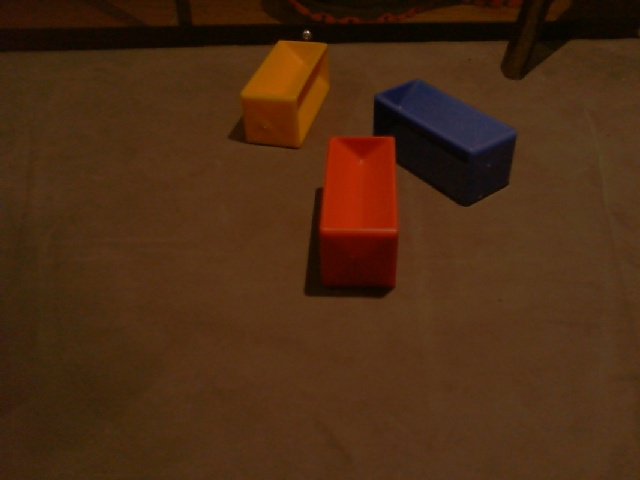BlueSample: (372, 76, 517, 208)
RedSample: (315, 132, 401, 294)
YellowSample: (238, 41, 336, 151)
